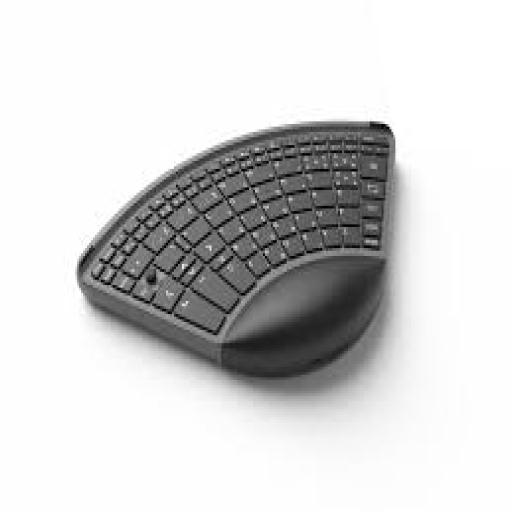KEYBOARD-2: (79, 121, 393, 372)
